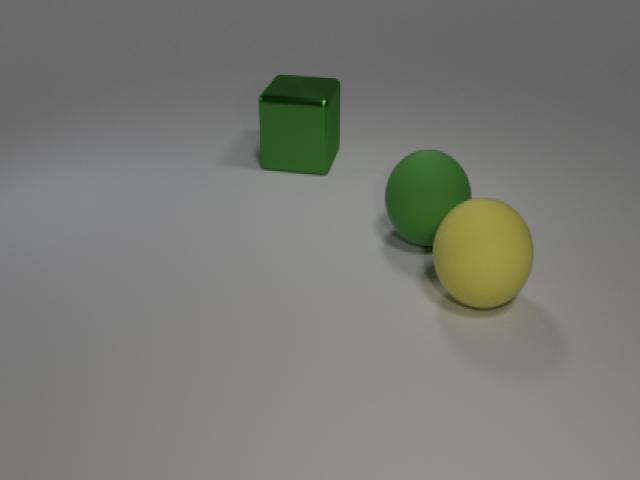round ball: (427, 191, 539, 317), (382, 143, 476, 250)
